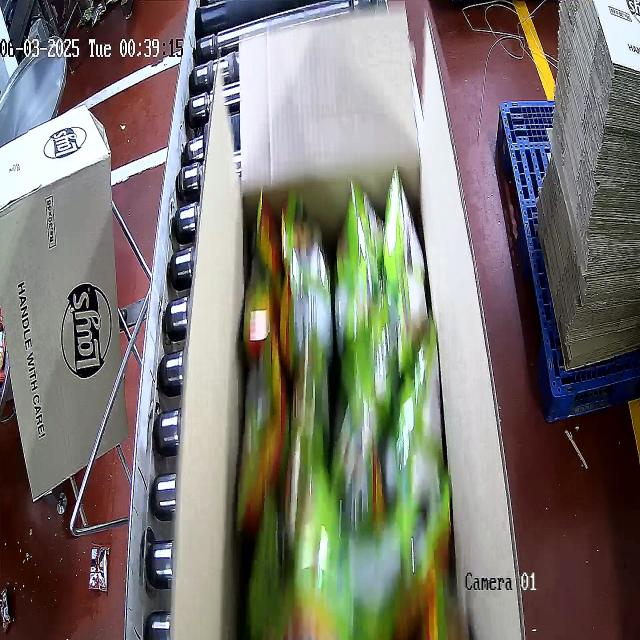YOGURT_HERB: (238, 190, 456, 640)
